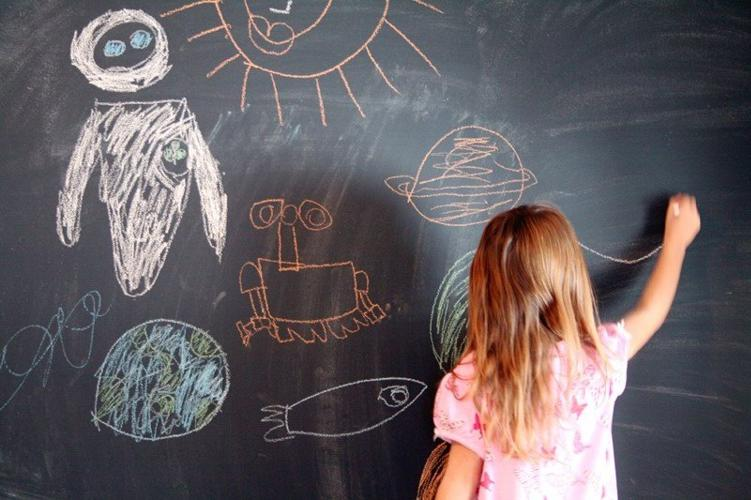person: (432, 191, 702, 500)
